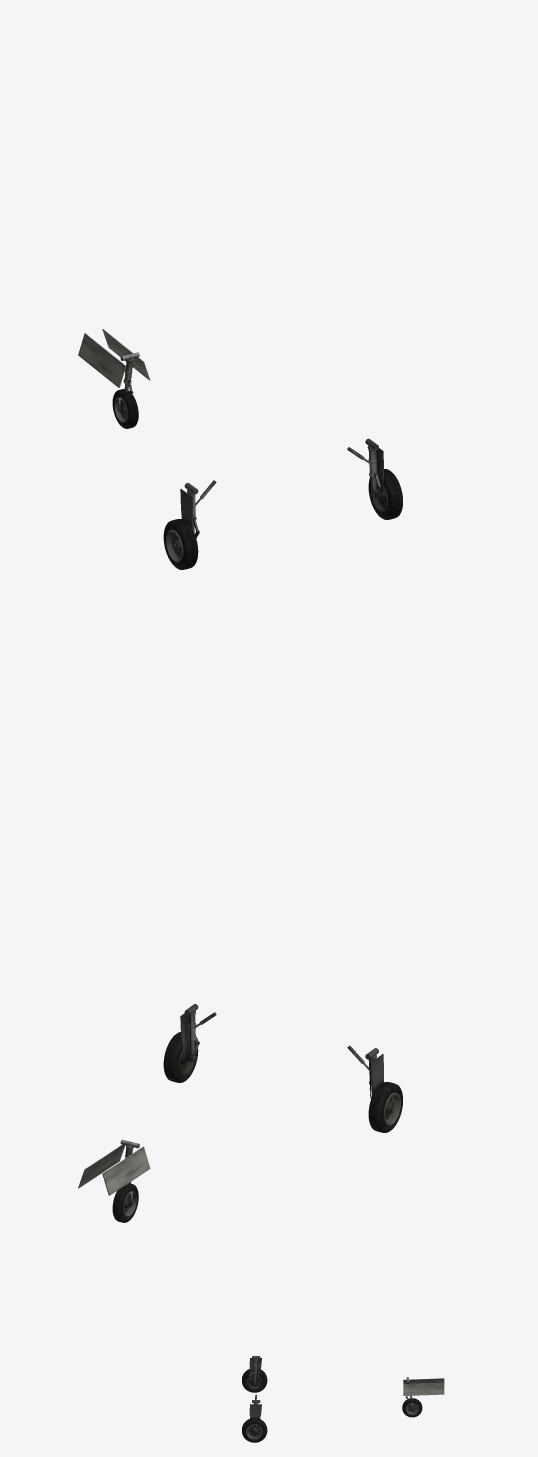
File: e_su7b_gear.glb
3 renders of one model, top to bottom at view 1: azimuth 30°, elevation 25°; view 2: azimuth 150°, elevation 25°; view 3: azimuth 270°, elevation 25°, orthographic. The views are drawn at different scales.
Parts seen in each view (by area): view 1: body|SU7_paint; view 2: body|SU7_paint; view 3: body|SU7_paint.
Part boxes in pixels (x1,y1,x2,y2): body|SU7_paint: (78, 329, 402, 569); body|SU7_paint: (78, 1004, 402, 1222); body|SU7_paint: (242, 1356, 444, 1442).
Bounding box in the file's own units: 4.17 × 6.03 × 16.81.
Materials: 1 (1 with a texture image).
